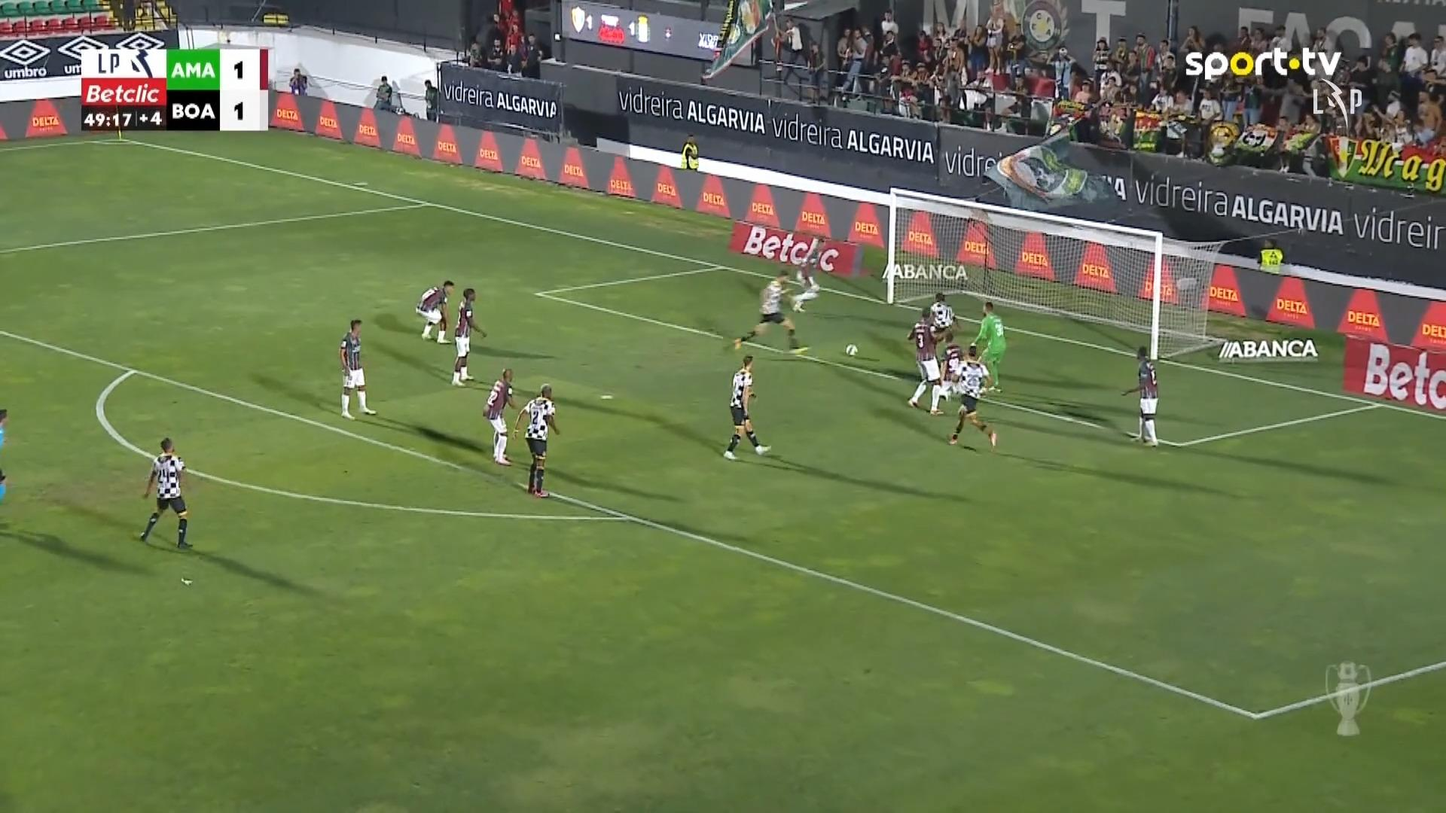ball: (846, 344, 857, 356)
goalkeeper: (968, 300, 1006, 393)
player: (732, 268, 810, 354), (138, 437, 192, 549), (511, 382, 560, 498), (947, 345, 997, 449), (722, 355, 771, 459), (905, 307, 945, 415), (338, 318, 377, 419), (1121, 345, 1160, 446), (451, 287, 487, 386), (482, 367, 516, 465), (790, 235, 825, 312), (414, 279, 454, 344), (929, 290, 959, 349), (938, 343, 962, 400)
